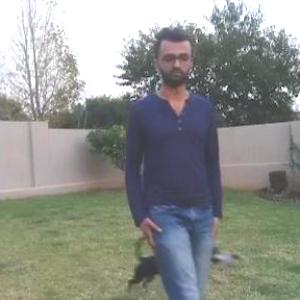follow: (130, 33, 225, 299)
